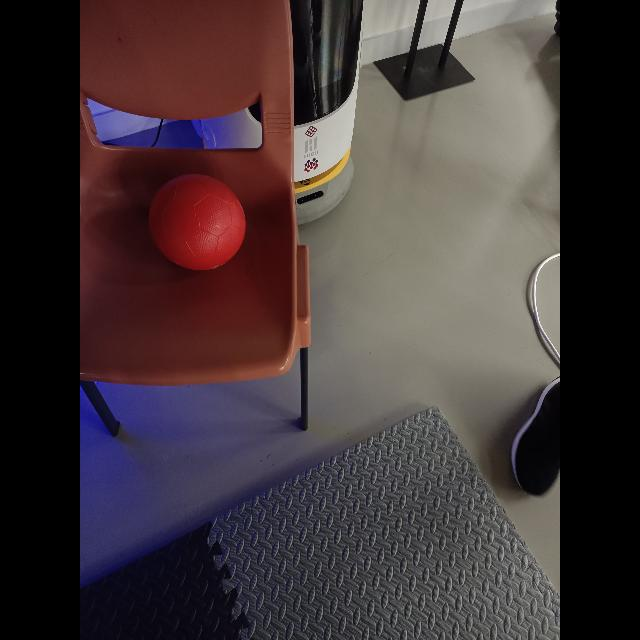R: (150, 175, 248, 272)
